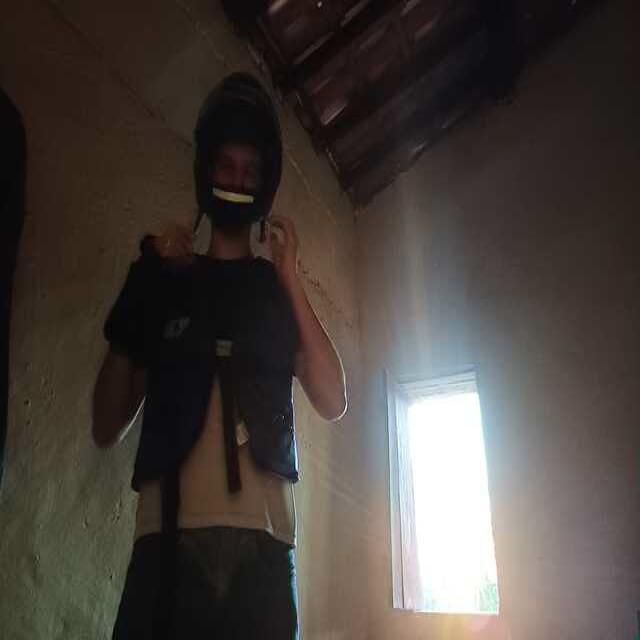capacete: (202, 70, 282, 224)
colete: (133, 240, 300, 488)
pessoa: (100, 95, 303, 636)
